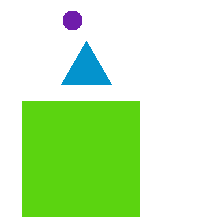circle: (63, 11, 81, 29)
rectangle: (22, 101, 139, 216)
triangle: (61, 41, 111, 84)
